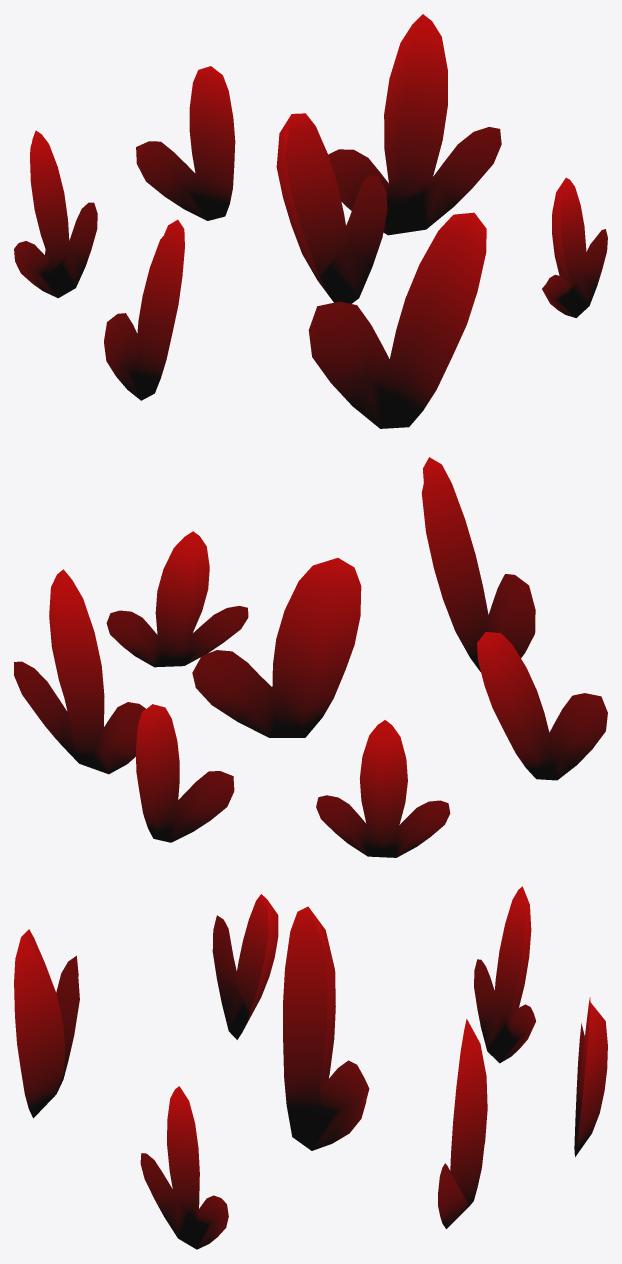
The model's file is tgrass2.fbx.
The picture shows the model from 3 angles, top to bottom: view 1: azimuth 30°, elevation 25°; view 2: azimuth 150°, elevation 25°; view 3: azimuth 270°, elevation 25°; orthographic projection. The views are drawn at different scales.
Parts seen in each view (by area): view 1: guaracha.018, guaracha.016, guaracha.017; view 2: guaracha.016, guaracha.018, guaracha.017; view 3: guaracha.016, guaracha.018, guaracha.017.
Part boxes in pixels (x1,y1,x2,y2): guaracha.018: [104, 66, 486, 428]; guaracha.016: [14, 14, 607, 317]; guaracha.017: [276, 113, 387, 303]; guaracha.016: [14, 531, 450, 857]; guaracha.018: [136, 457, 607, 842]; guaracha.017: [192, 558, 361, 737]; guaracha.016: [140, 886, 535, 1249]; guaracha.018: [14, 894, 607, 1156]; guaracha.017: [283, 906, 369, 1150].
Size of the model in its own units: 305 by 122 by 296.
